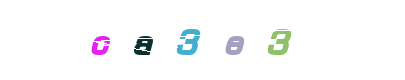3: (149, 0, 229, 80), (215, 0, 295, 80)
A: (103, 0, 183, 80)
C: (60, 0, 140, 80)
E: (162, 0, 242, 80)
